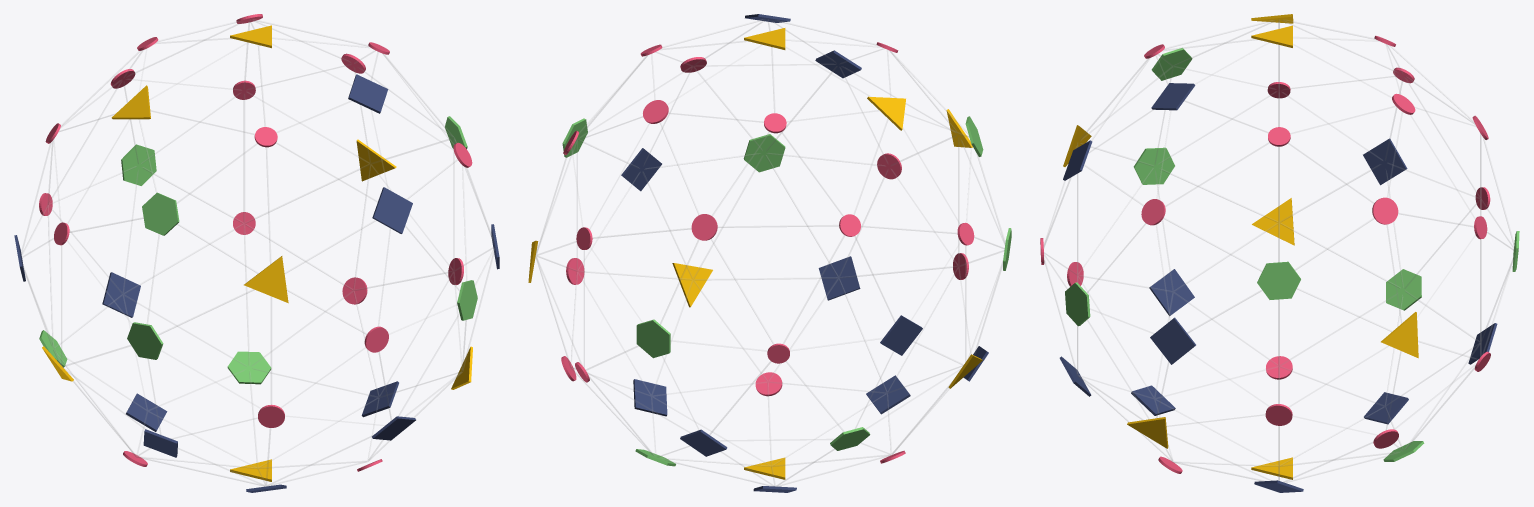
The model's file is helix-globe01.glb.
3 views of the same model, side by side, from view 1: azimuth 30°, elevation 25°; view 2: azimuth 150°, elevation 25°; view 3: azimuth 270°, elevation 25° (orthographic).
Parts seen in each view (by area): view 1: wireisosphereV4.001; view 2: wireisosphereV4.001; view 3: wireisosphereV4.001.
Part boxes in pixels (bbox=[...]): wireisosphereV4.001: bbox=[14, 14, 499, 492]; wireisosphereV4.001: bbox=[528, 14, 1011, 492]; wireisosphereV4.001: bbox=[1040, 14, 1519, 492].
Size of the model in its own units: 3.43 by 3.46 by 3.46.
